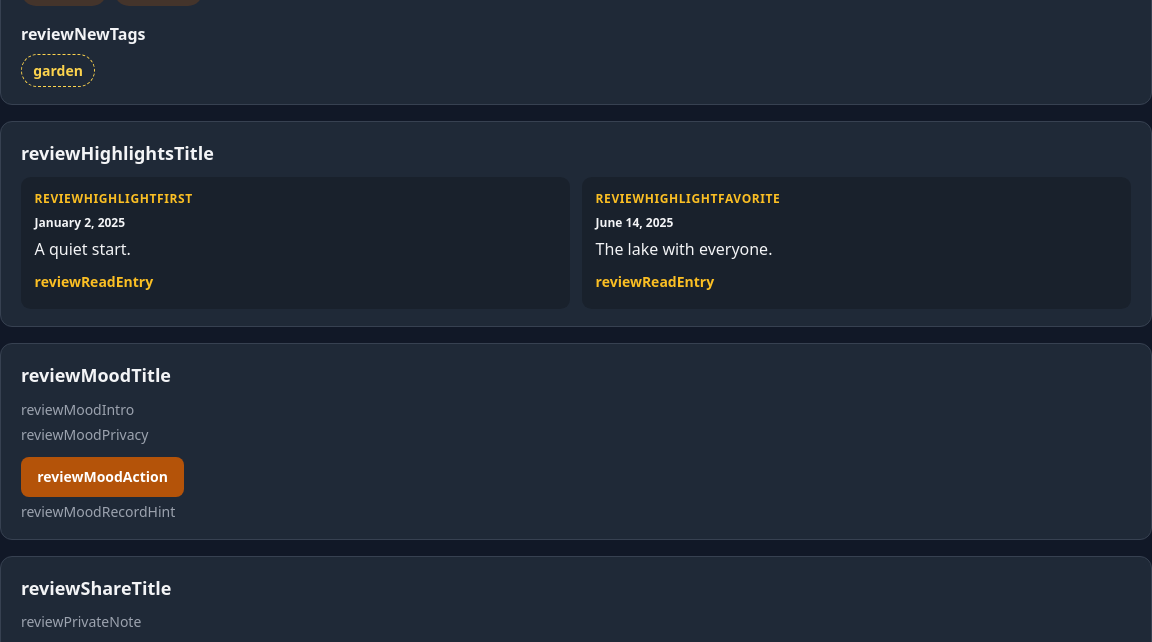
Scenario: YearReviewPage › reports a failed mood reading and explains when AI is not set up
The image size is (1152, 642).
(page scrolled)
Click the button "reviewMoodAction" at point(103, 477), box [21, 457, 184, 497]
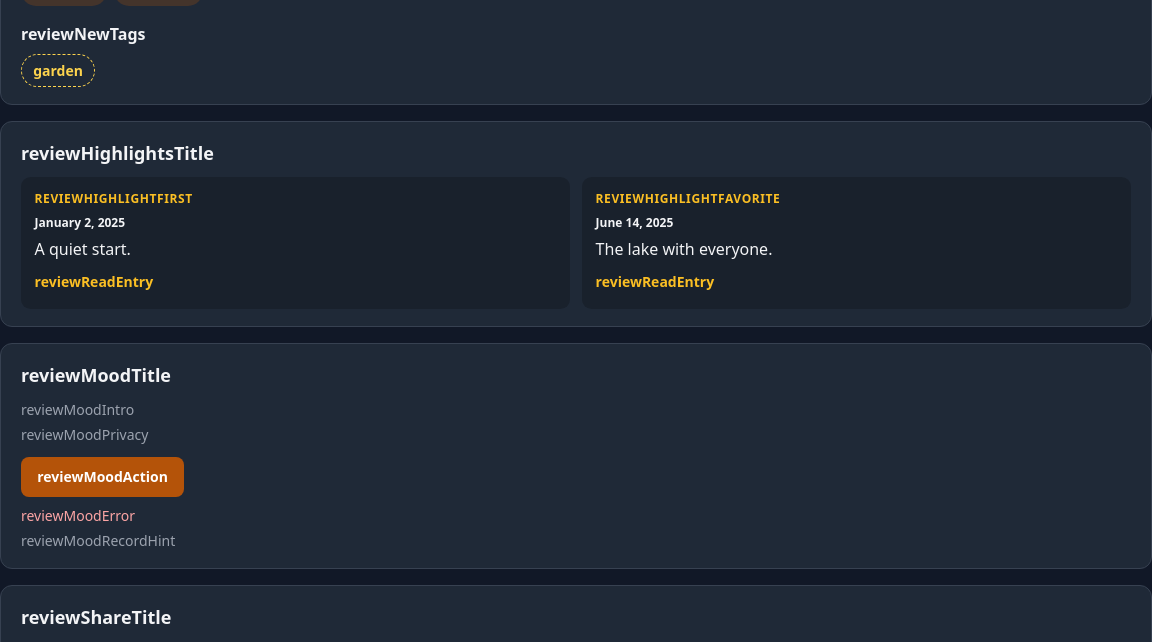
Expected: the message reads "reviewMoodError", [21, 506, 135, 525]
